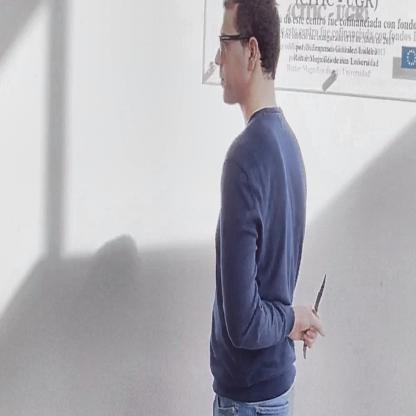knife: (300, 265, 330, 362)
